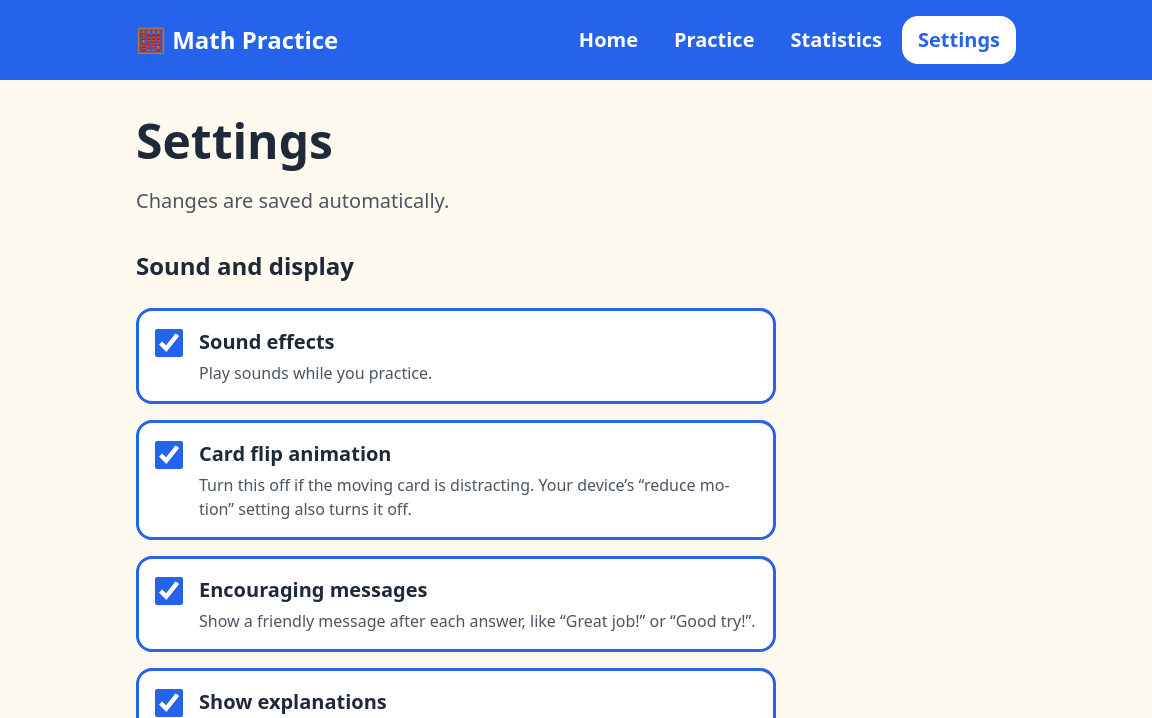
saved-data notices › explains when storage is full
Click the checkbox labelled "Sound effects" at (169, 343), box [155,329,183,357]
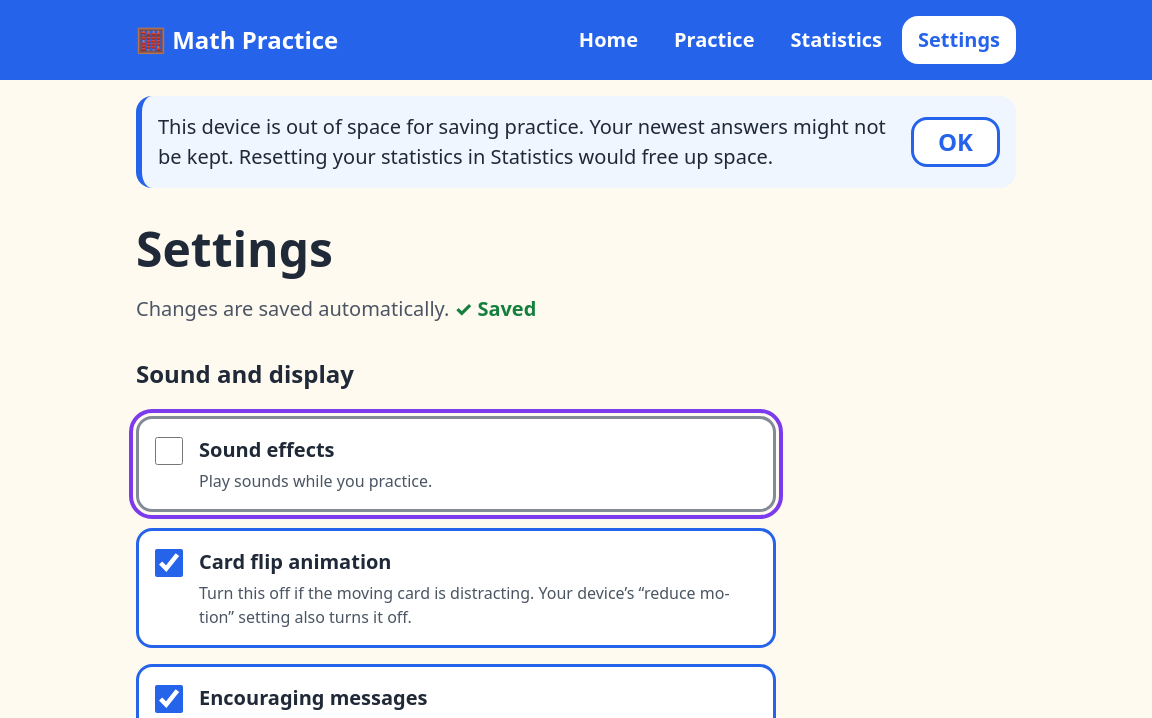
Now the 1st message shows "out of space", box [158,113,886,170]
